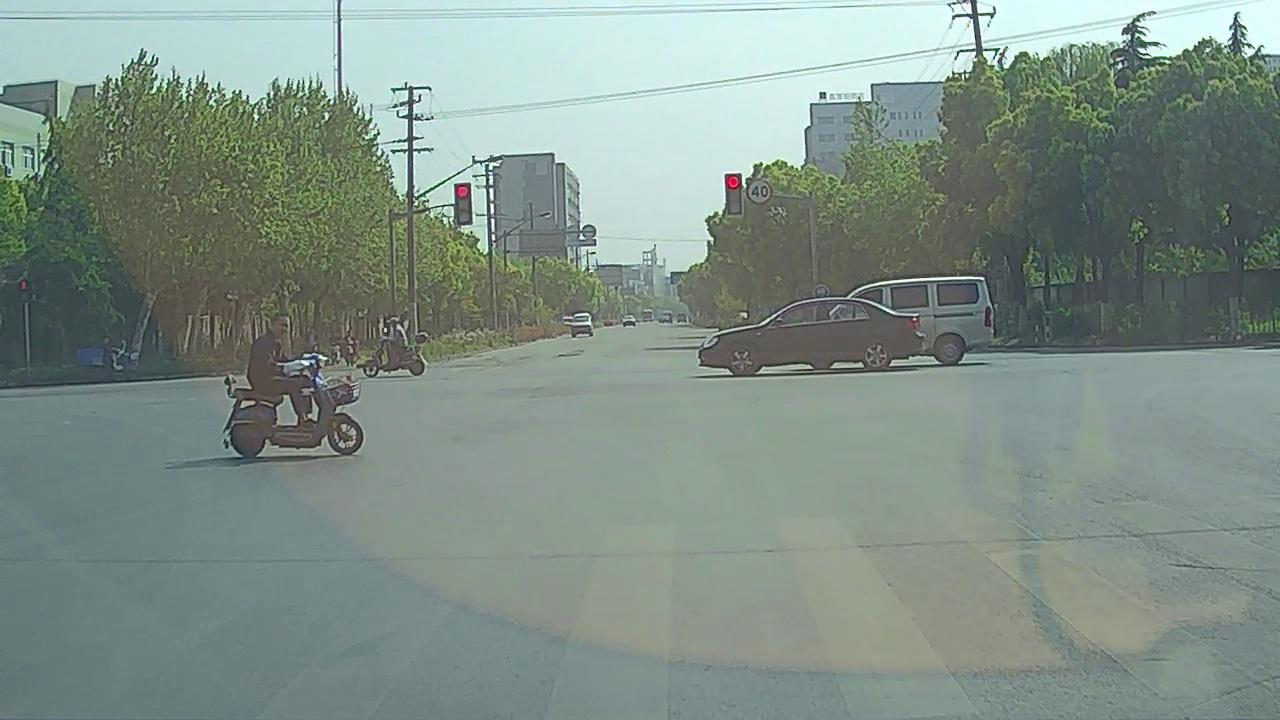traffic_light: (727, 174, 743, 215), (455, 183, 471, 223)
